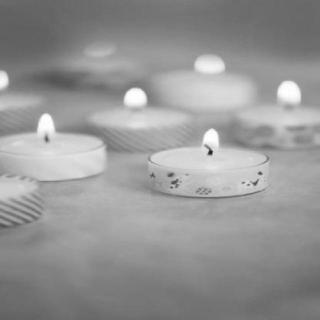Fire: (110, 78, 168, 122), (21, 109, 67, 143), (190, 125, 228, 161), (194, 50, 237, 77)
